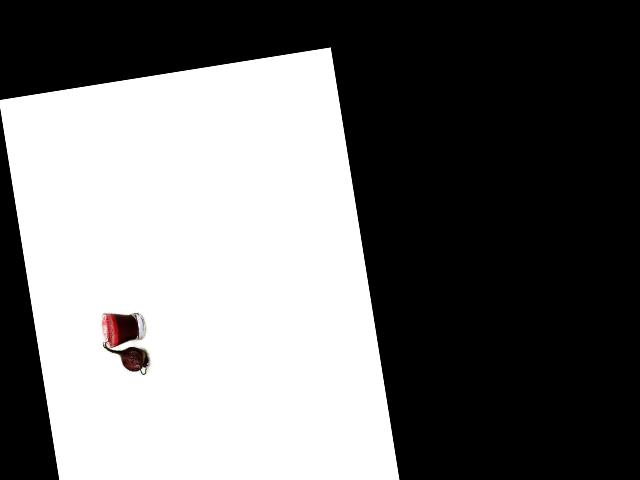beet: (101, 329, 151, 379)
